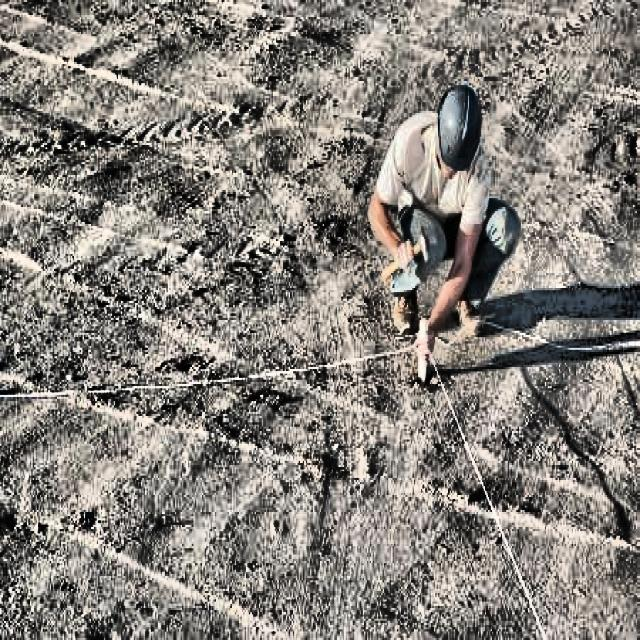helmet: (429, 86, 484, 180)
